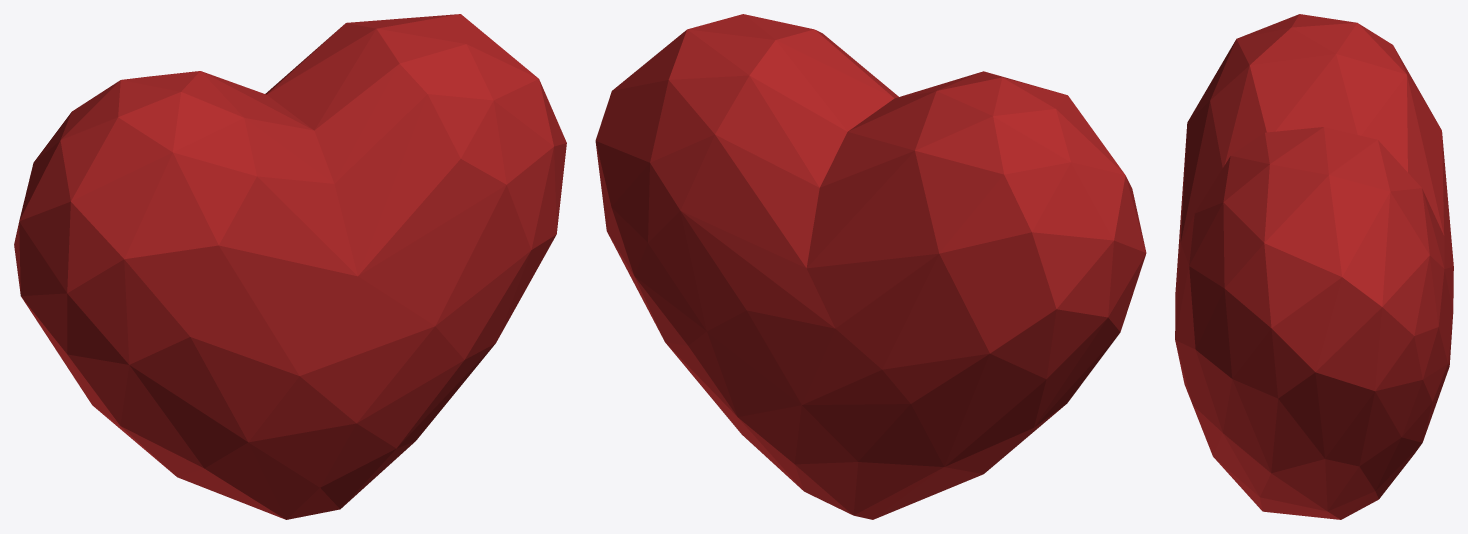
File: love.gltf
The picture shows the model from 3 angles, left to right: view 1: azimuth 30°, elevation 25°; view 2: azimuth 150°, elevation 25°; view 3: azimuth 270°, elevation 25°; orthographic projection. The views are drawn at different scales.
Parts seen in each view (by area): view 1: 3DSMeshMatrix; view 2: 3DSMeshMatrix; view 3: 3DSMeshMatrix.
Part boxes in pixels (x1,y1,x2,y2): 3DSMeshMatrix: (14,14,566,519); 3DSMeshMatrix: (595,14,1146,519); 3DSMeshMatrix: (1175,14,1453,519).
Bounding box in the file's own units: 80.33 × 67.14 × 39.6.
